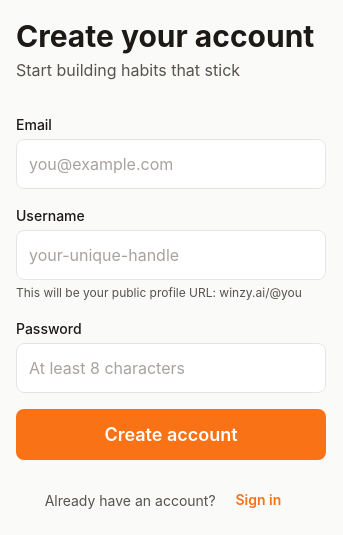
Scenario: SignUpScreen › validates username format — invalid characters
Type "user@test.com" into the field with test id "email-input" at point(171, 164), box [16,138,326,188]
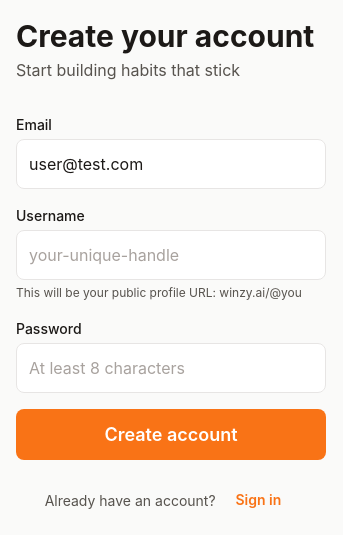
Type "user name" into the field with test id "username-input" at point(171, 254), box [16,230,326,280]
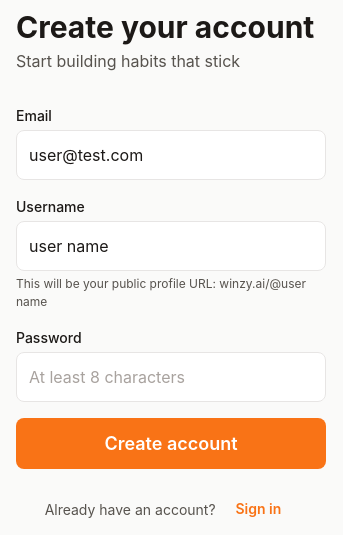
Type "password123" into the password field with test id "password-input" at point(171, 376), box [16,352,326,402]
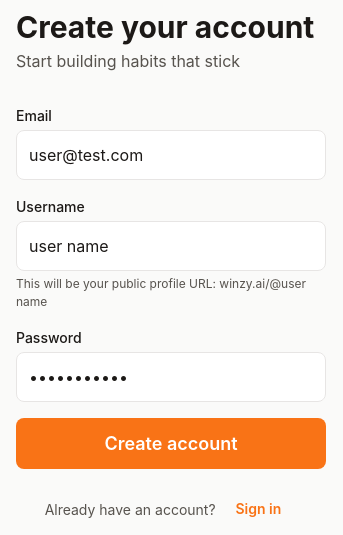
Click the button "Create account" at point(171, 443), box [16,418,326,469]
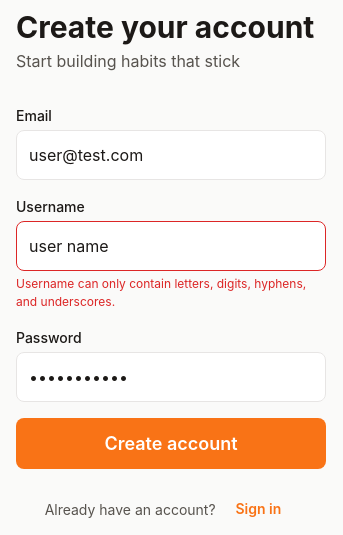
Check: the text "Username can only contain letters, digits, hyphens, and underscores." is shown, box [16,274,326,310]
